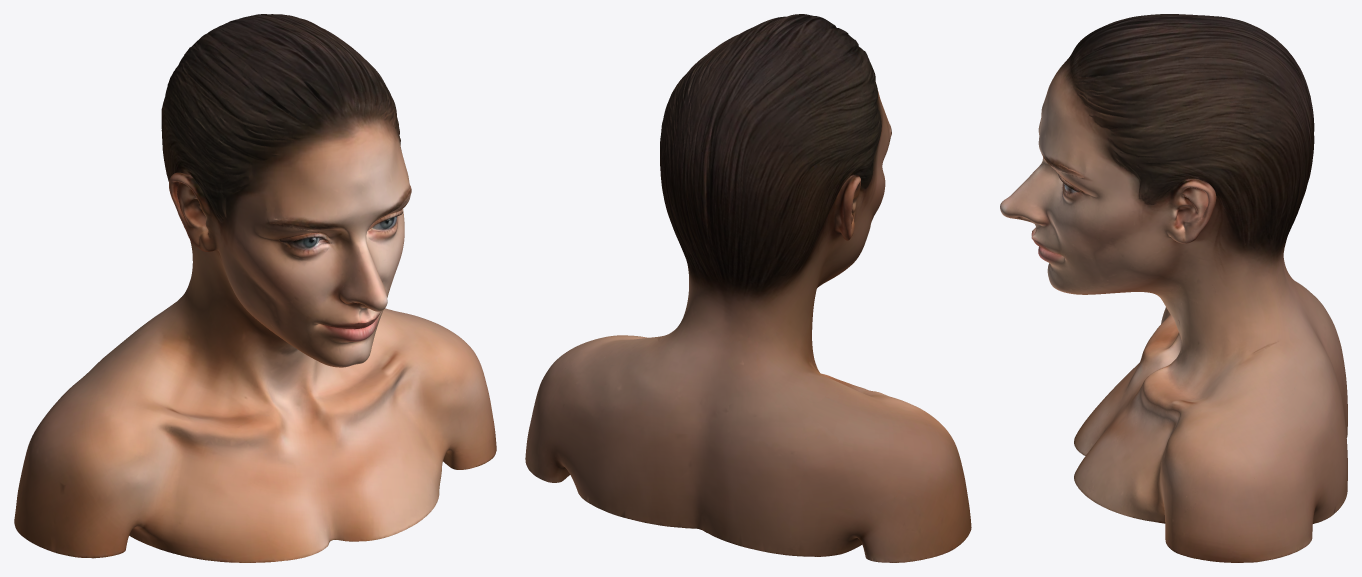
Rendered from lady-head-real.glb.
3 views of the same model, side by side, from view 1: azimuth 30°, elevation 25°; view 2: azimuth 150°, elevation 25°; view 3: azimuth 270°, elevation 25° (orthographic). The views are drawn at different scales.
Visible parts, largest first — view 1: model; view 2: model; view 3: model.
Boxes of the visible parts, x1,y1,x2,y2 form: model: (14,14,496,562); model: (525,14,971,562); model: (1000,14,1347,562).
Size of the model in its own units: 1.85 by 1.84 by 1.32.
Materials: 1 (1 with a texture image).
